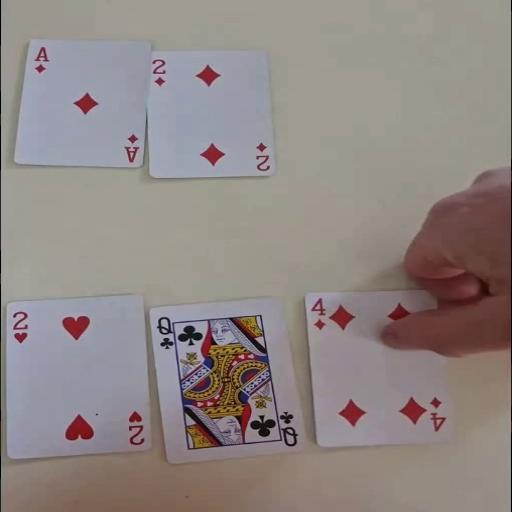2: (125, 408, 146, 446), (9, 309, 30, 345), (252, 140, 272, 172), (148, 57, 166, 87)
4: (426, 394, 448, 433), (308, 295, 328, 331)
A: (120, 132, 140, 164), (31, 44, 51, 74)
Q: (276, 409, 299, 447), (154, 315, 176, 350)
